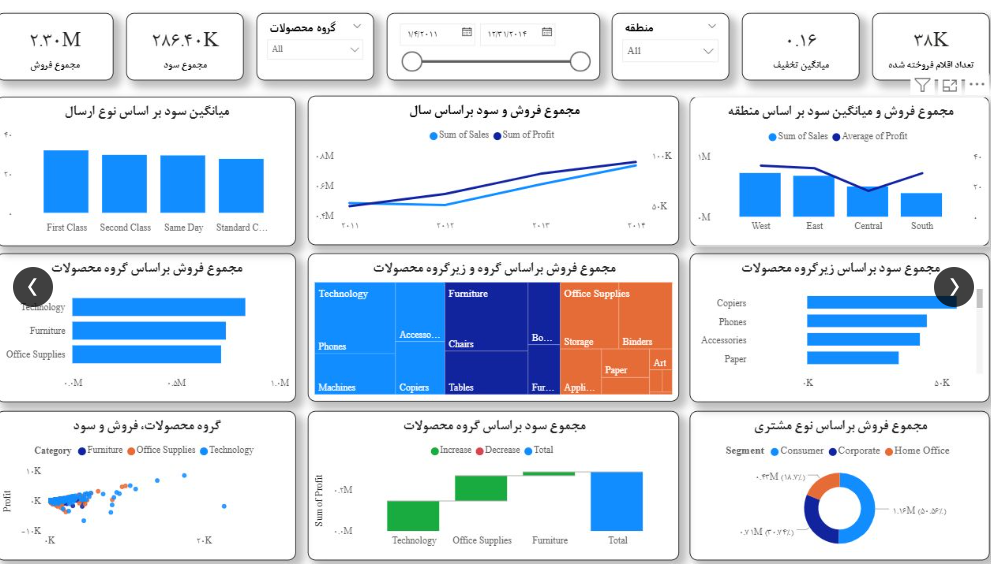

This screenshot's page, from the dashboard's own definition file:
{"tool":"powerbi","page":{"name":"Page 1","canvas":[1280,720],"ordinal":0},"visuals":[{"type":"card","fields":{"Values":["Sum(Orders.Sales)"]},"box":[8.6,8.6,149.2,85.6],"z":0},{"type":"card","fields":{"Values":["Sum(Orders.Profit)"]},"box":[173.5,8.6,149.2,85.6],"z":1000},{"type":"card","fields":{"Values":["Sum(Orders.Quantity)"]},"box":[1118.9,8.6,149.2,85.6],"z":2000},{"type":"card","fields":{"Values":["Avg(Orders.Discount)"]},"box":[954,8.6,149.2,85.6],"z":3000},{"type":"donutChart","title":"مجموع فروش براساس نوع مشتری","fields":{"Category":["Orders.Segment"],"Y":["Sum(Orders.Sales)"]},"box":[887.8,513.6,380.3,189.5],"z":4000},{"type":"slicer","fields":{"Values":["Orders.Category"]},"box":[338.4,8.6,149.2,85.6],"z":5000},{"type":"slicer","fields":{"Values":["Orders.Region"]},"box":[789.3,8.6,149,85.6],"z":6000},{"type":"slicer","fields":{"Values":["Orders.Order Date"]},"box":[503.3,8.6,270.2,85.6],"z":7000},{"type":"lineChart","title":"مجموع فروش و سود براساس سال","fields":{"Y":["Sum(Orders.Sales)"],"Category":["Orders.Order Date.Variation.Date Hierarchy.Year"],"Y2":["Sum(Orders.Profit)"]},"box":[403.5,113.7,470.8,189.5],"z":8000},{"type":"treemap","title":"مجموع فروش براساس گروه و زیرگروه محصولات ","fields":{"Group":["Orders.Category"],"Details":["Orders.Sub-Category"],"Values":["Sum(Orders.Sales)"]},"box":[403.5,314.3,470.8,188.3],"z":9000},{"type":"waterfallChart","title":"مجموع سود براساس گروه محصولات","fields":{"Category":["Orders.Category"],"Y":["Sum(Orders.Profit)"]},"box":[403.5,513.6,470.8,189.5],"z":10000},{"type":"clusteredBarChart","title":"مجموع فروش براساس گروه محصولات","fields":{"Category":["Orders.Category"],"Y":["Sum(Orders.Sales)"]},"box":[8.6,314.3,380,189],"z":11000},{"type":"clusteredBarChart","title":" مجموع سود براساس زیرگروه محصولات","fields":{"Category":["Orders.Sub-Category"],"Y":["Sum(Orders.Profit)"]},"box":[887.8,314.3,380.3,189],"z":12000},{"type":"scatterChart","title":"گروه محصولات، فروش و سود","fields":{"X":["Orders.Sales"],"Y":["Orders.Profit"],"Series":["Orders.Category"]},"box":[8.6,513.6,380.3,189.5],"z":13000},{"type":"columnChart","title":"میانگین سود بر اساس نوع ارسال","fields":{"Y":["Avg(Orders.Profit)"],"Category":["Orders.Ship Mode"]},"box":[8.6,114.9,380.3,189.5],"z":14000},{"type":"lineClusteredColumnComboChart","title":"مجموع فروش و میانگین سود بر اساس منطقه","fields":{"Y":["Sum(Orders.Sales)"],"Category":["Orders.Region"],"Y2":["Avg(Orders.Profit)"]},"box":[887.8,114.9,380.3,189.5],"z":15000}]}

Visuals, with their boxes in screenshot pixels (x1, y1, x2, y2):
card - Sum(Orders.Sales): {"left": 0, "top": 9, "right": 109, "bottom": 77}
card - Sum(Orders.Profit): {"left": 122, "top": 9, "right": 240, "bottom": 77}
card - Sum(Orders.Quantity): {"left": 870, "top": 9, "right": 988, "bottom": 77}
card - Avg(Orders.Discount): {"left": 740, "top": 9, "right": 858, "bottom": 77}
"مجموع فروش براساس نوع مشتری" donutChart: {"left": 687, "top": 409, "right": 988, "bottom": 559}
slicer - Orders.Category: {"left": 252, "top": 9, "right": 370, "bottom": 77}
slicer - Orders.Region: {"left": 609, "top": 9, "right": 727, "bottom": 77}
slicer - Orders.Order Date: {"left": 383, "top": 9, "right": 597, "bottom": 77}
"مجموع فروش و سود براساس سال" lineChart: {"left": 304, "top": 93, "right": 677, "bottom": 243}
"مجموع فروش براساس گروه و زیرگروه محصولات " treemap: {"left": 304, "top": 251, "right": 677, "bottom": 400}
"مجموع سود براساس گروه محصولات" waterfallChart: {"left": 304, "top": 409, "right": 677, "bottom": 559}
"مجموع فروش براساس گروه محصولات" clusteredBarChart: {"left": 0, "top": 251, "right": 292, "bottom": 401}
" مجموع سود براساس زیرگروه محصولات" clusteredBarChart: {"left": 687, "top": 251, "right": 988, "bottom": 401}
"گروه محصولات، فروش و سود" scatterChart: {"left": 0, "top": 409, "right": 292, "bottom": 559}
"میانگین سود بر اساس نوع ارسال" columnChart: {"left": 0, "top": 94, "right": 292, "bottom": 244}
"مجموع فروش و میانگین سود بر اساس منطقه" lineClusteredColumnComboChart: {"left": 687, "top": 94, "right": 988, "bottom": 244}
